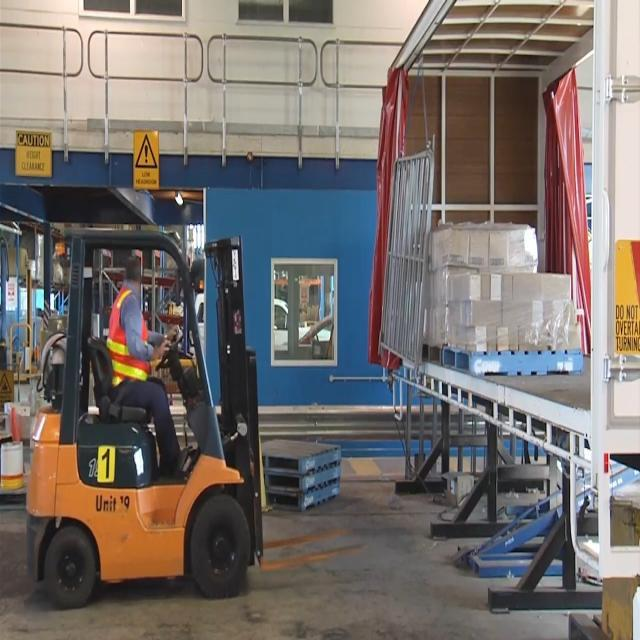box: (425, 217, 586, 356)
forklift: (31, 152, 368, 603)
pallets: (420, 337, 591, 383), (259, 436, 352, 515)
person: (101, 240, 198, 485)
